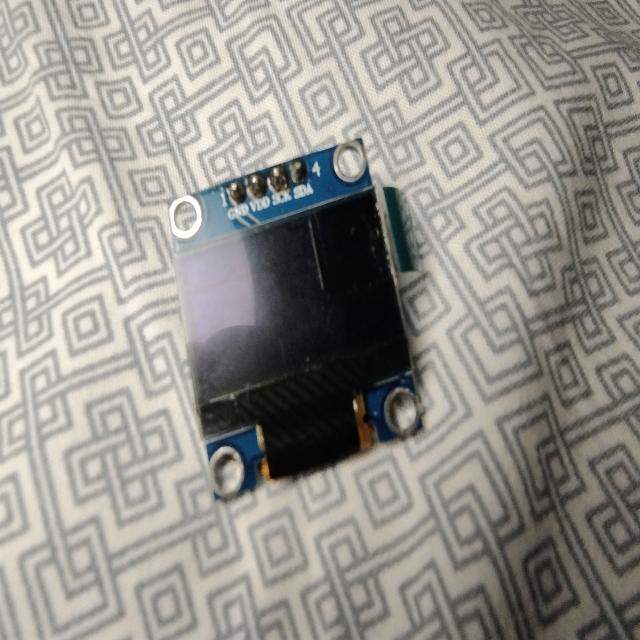oled: (170, 129, 443, 505)
